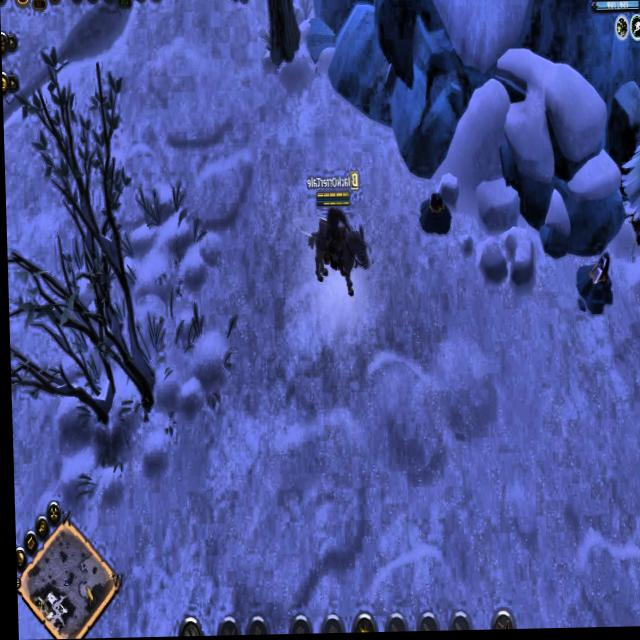copperore: (572, 254, 616, 321), (414, 190, 453, 241)
